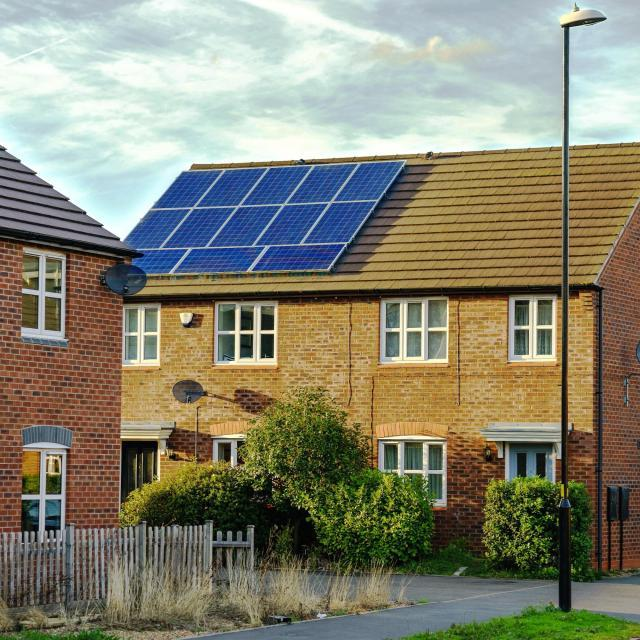no faulty: (174, 244, 263, 282), (310, 198, 380, 244), (151, 166, 221, 210), (336, 160, 406, 202), (206, 167, 272, 210), (259, 244, 343, 277), (218, 204, 282, 246), (254, 166, 318, 207), (172, 210, 240, 248), (118, 208, 183, 245)
